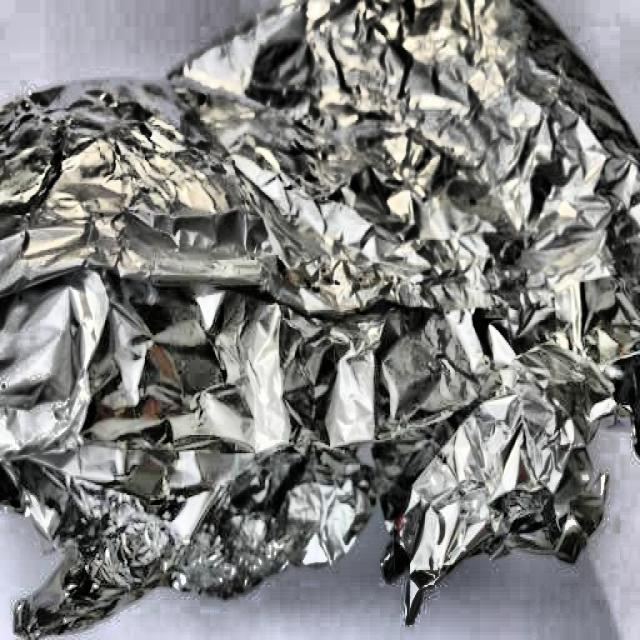metal: (0, 6, 636, 626)
